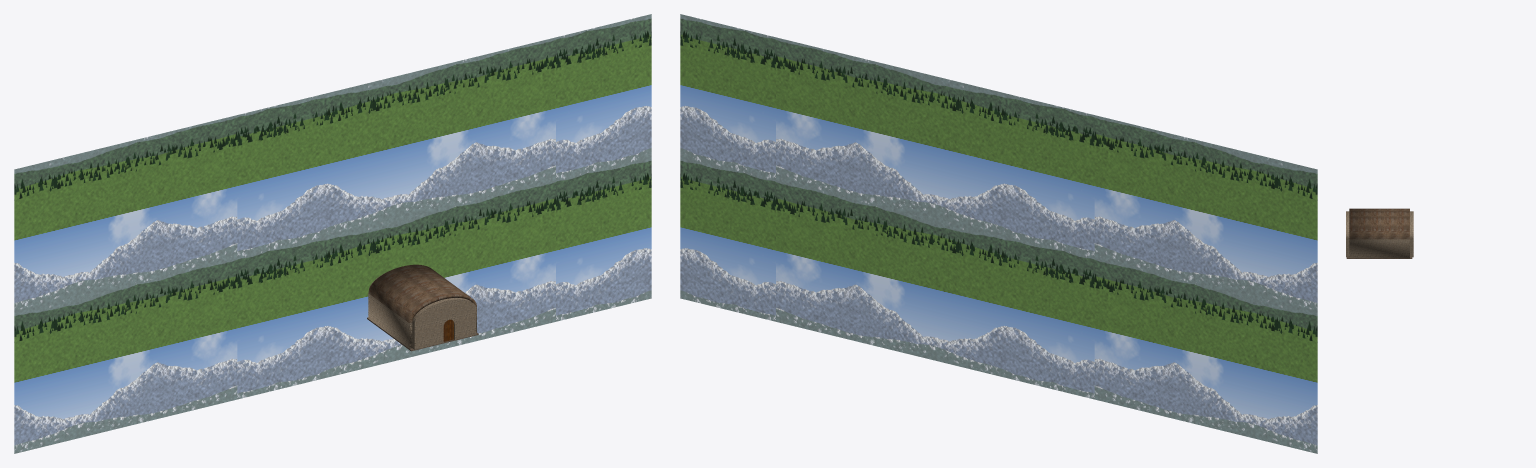
Rendered from bathroom.glb.
3 views of the same model, side by side, from view 1: azimuth 30°, elevation 25°; view 2: azimuth 150°, elevation 25°; view 3: azimuth 270°, elevation 25° (orthographic). The views are drawn at different scales.
Visible parts, largest first — view 1: valley view, vault, front wall; view 2: valley view; view 3: vault.
Part boxes in pixels (x1=…): valley view: x1=14, y1=14, x2=651, y2=453; vault: x1=368, y1=264, x2=476, y2=348; front wall: x1=412, y1=298, x2=476, y2=349; valley view: x1=680, y1=14, x2=1317, y2=453; vault: x1=1349, y1=208, x2=1409, y2=258.
Size of the model in its own units: 68 by 29 by 22.
Materials: 44 (24 with a texture image).
